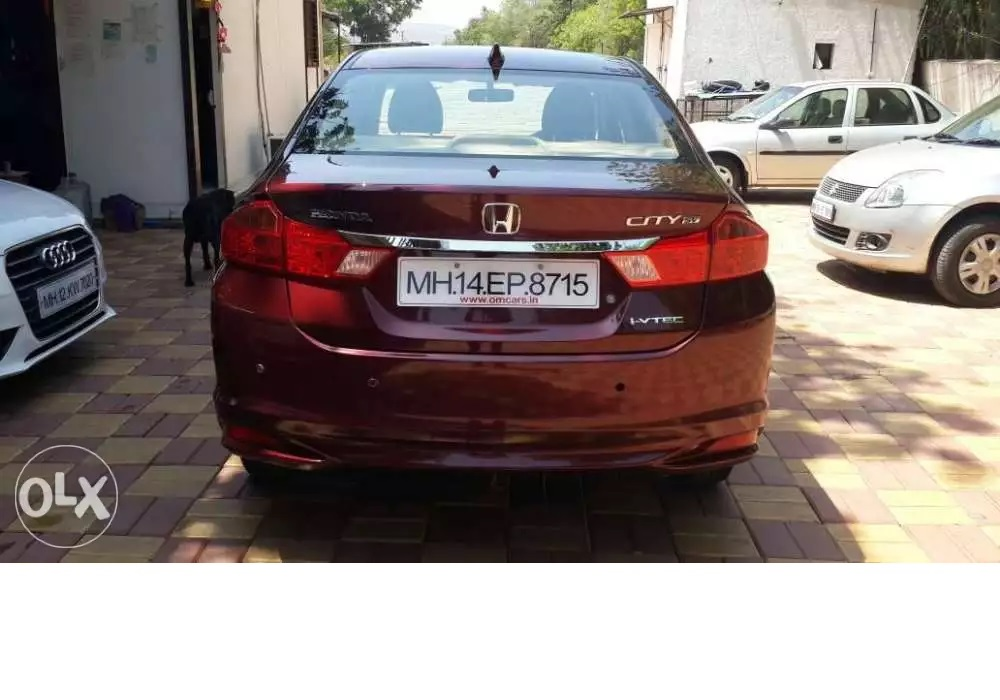licenseplate: (393, 251, 607, 312)
